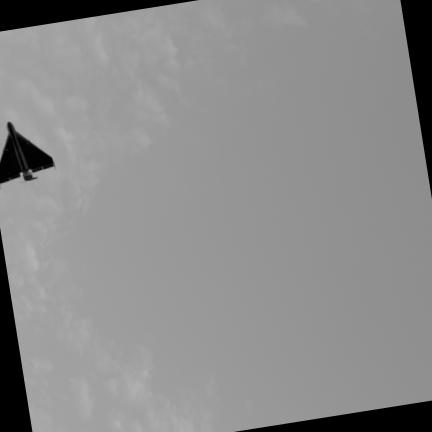Shahed: (0, 123, 53, 184)
